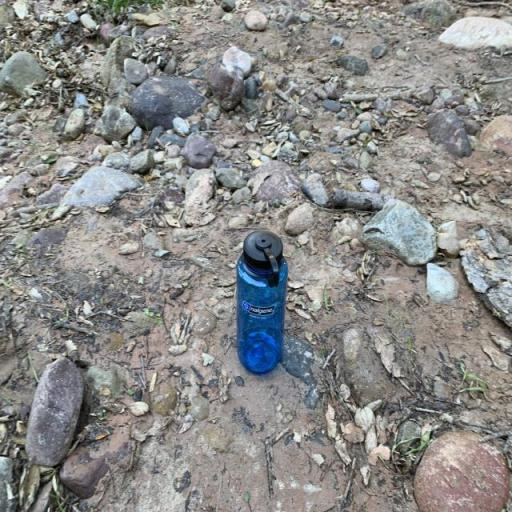bottle: (236, 230, 288, 374)
